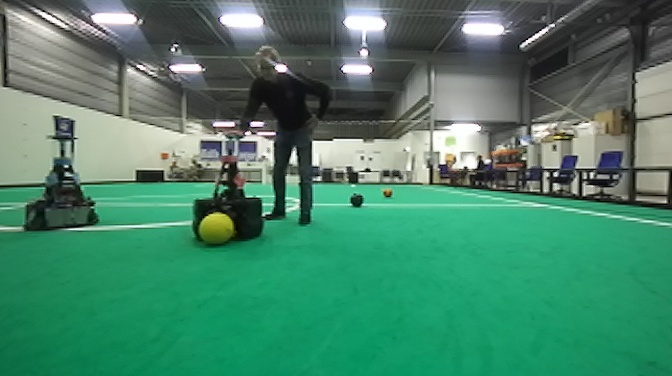ball: (197, 211, 237, 249), (349, 190, 367, 210), (382, 186, 394, 200)
goalpost: (261, 163, 268, 188)
human: (222, 44, 334, 228)
robot: (21, 112, 102, 235), (190, 136, 268, 244)
